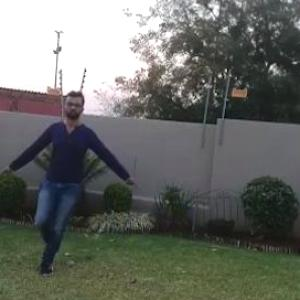land: (4, 95, 128, 265)
